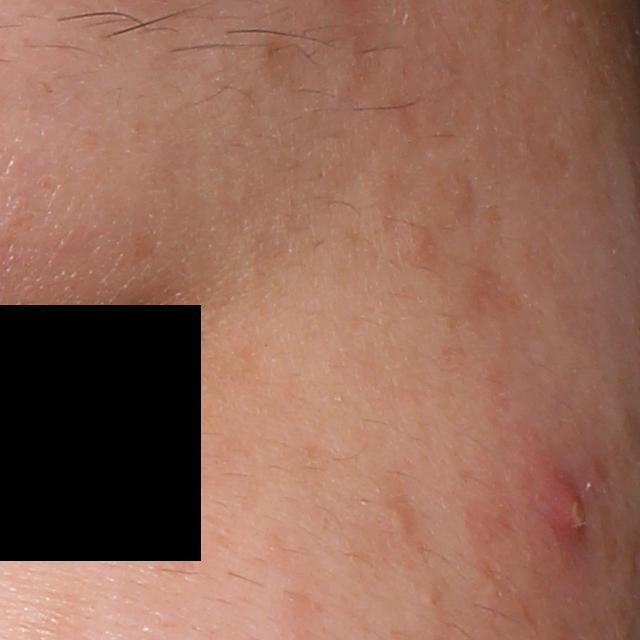pustule: (551, 477, 593, 543)
